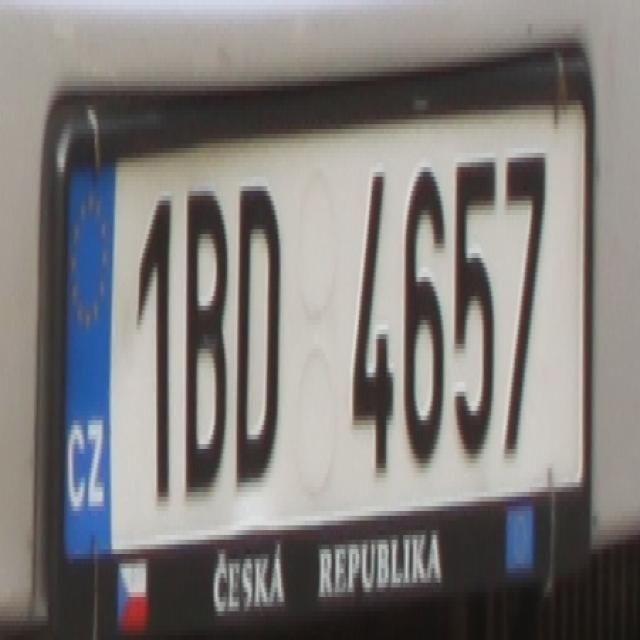1: (138, 191, 173, 502)
4: (348, 162, 398, 473)
5: (453, 148, 495, 459)
6: (403, 162, 446, 458)
7: (502, 144, 544, 464)
B: (177, 176, 230, 496)
D: (232, 172, 280, 492)
